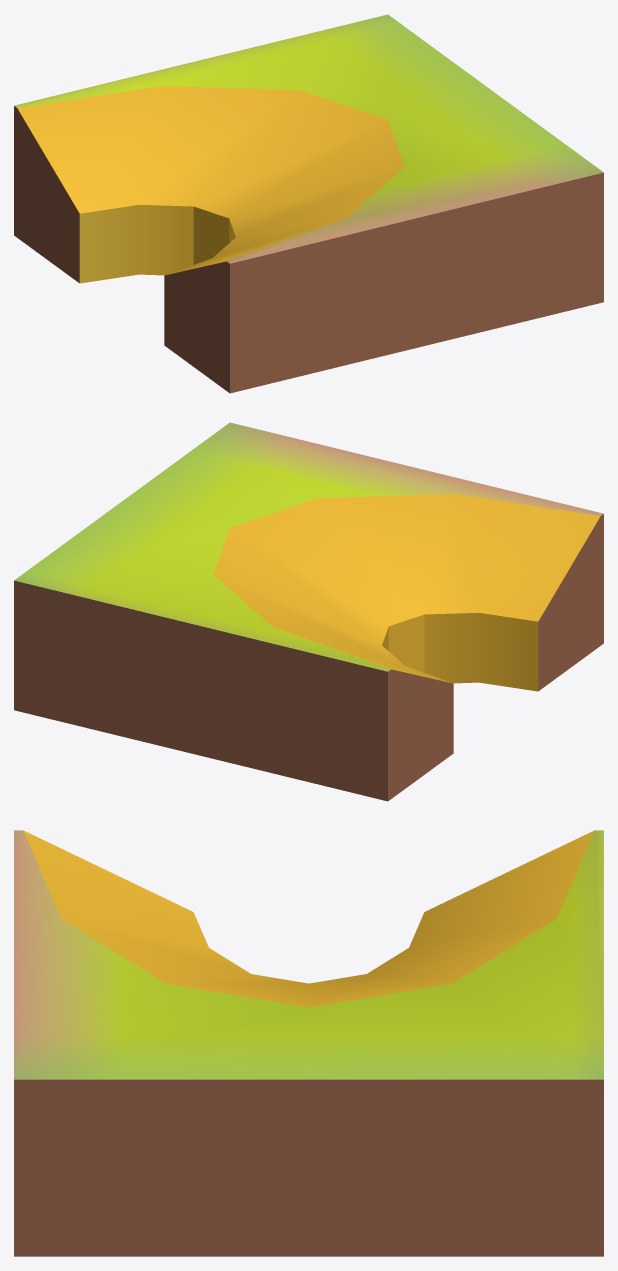
Rendered from Shore.SmallHor.B.glb.
3 views of the same model, one above another, from view 1: azimuth 30°, elevation 25°; view 2: azimuth 150°, elevation 25°; view 3: azimuth 270°, elevation 25° (orthographic). The views are drawn at different scales.
Visible parts, largest first — view 1: Shore.SmallHor.B; view 2: Shore.SmallHor.B; view 3: Shore.SmallHor.B.
Boxes of the visible parts, x1,y1,x2,y2 form: Shore.SmallHor.B: (14, 14, 603, 393); Shore.SmallHor.B: (14, 422, 603, 801); Shore.SmallHor.B: (14, 830, 603, 1256).
Bounding box in the file's own units: 3 × 0.9943 × 3.
Materials: 1 (1 with a texture image).
